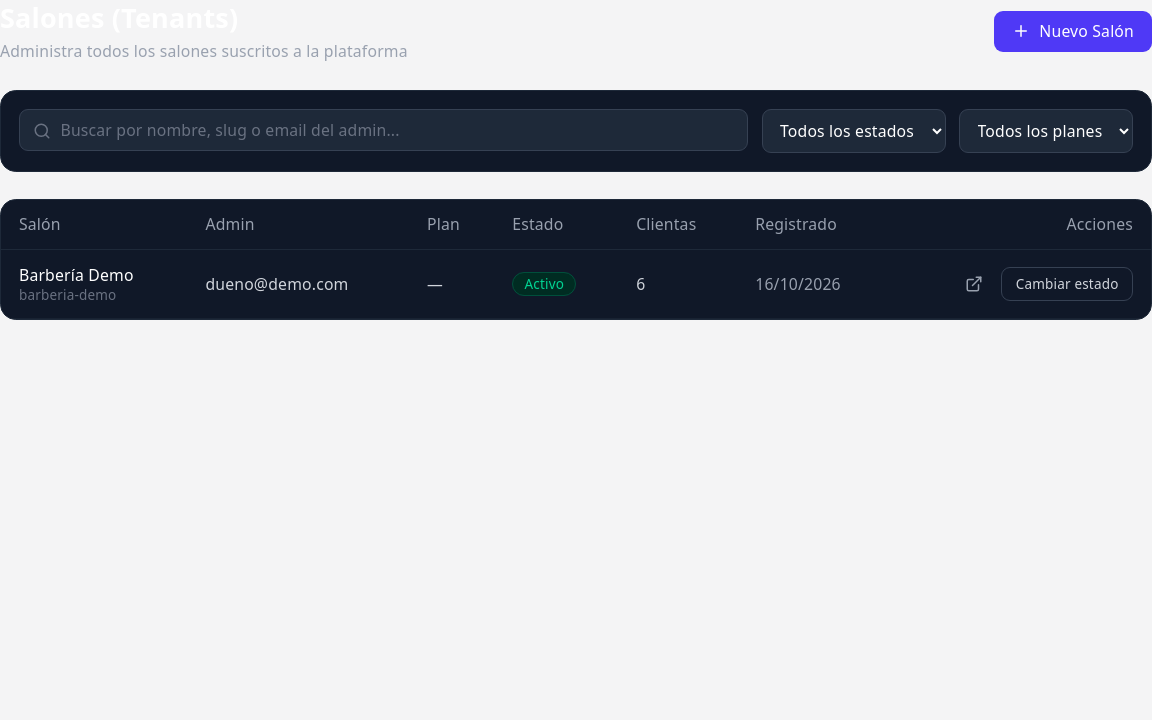
Test: Super Admin · Salones › «Nuevo Salón» abre el asistente de alta
Click the button "Nuevo Salón".
click(1073, 31)  # box x1=994 y1=11 x2=1151 y2=52
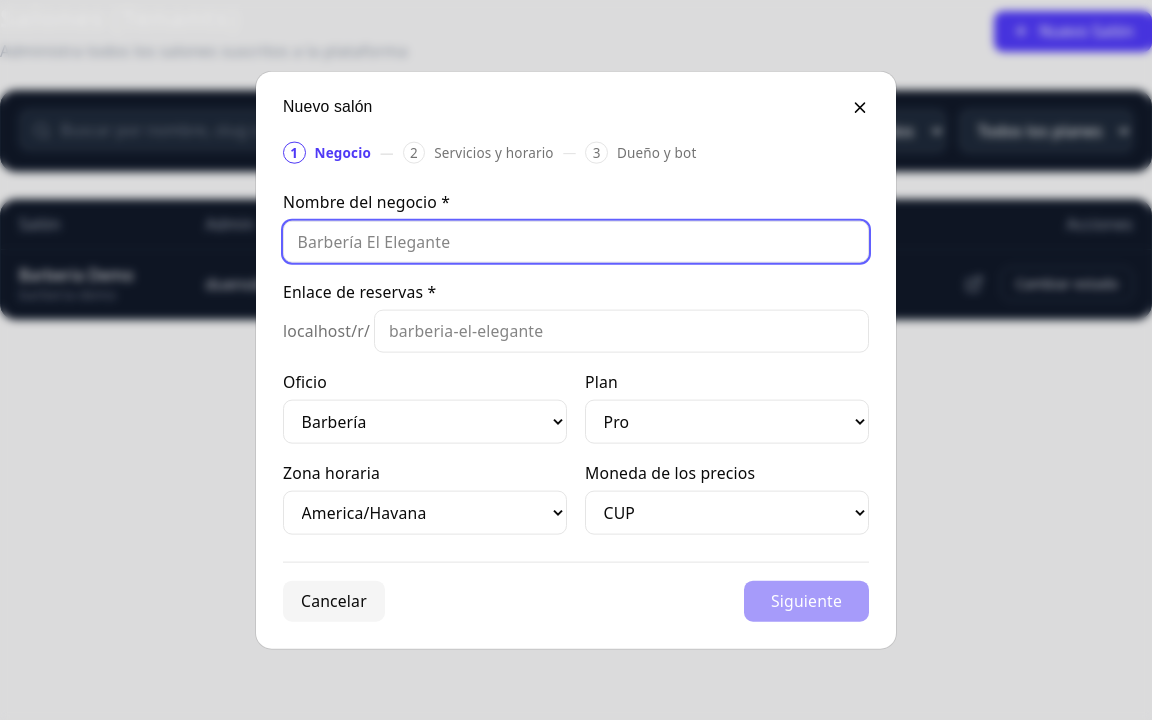
Now the dialog shows "Nuevo salón", box x1=283 y1=98 x2=372 y2=115
Now the field with placeholder "Barbería El Elegante" is shown, box x1=283 y1=220 x2=869 y2=263
